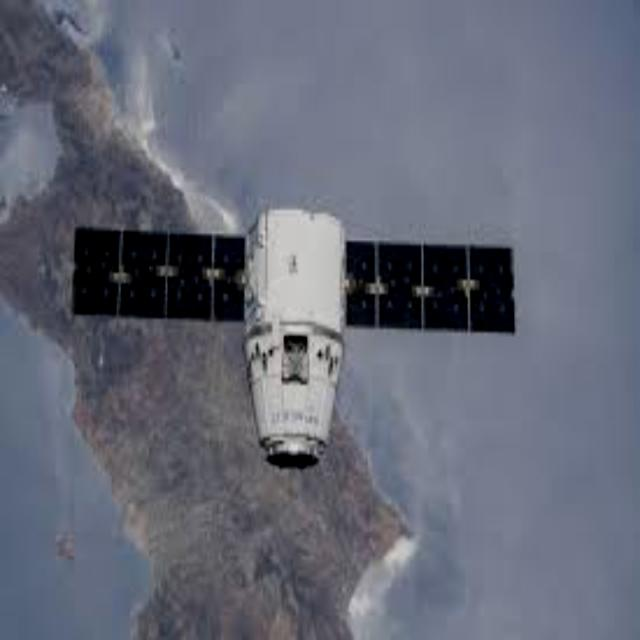medium_debris: (68, 202, 518, 477)
